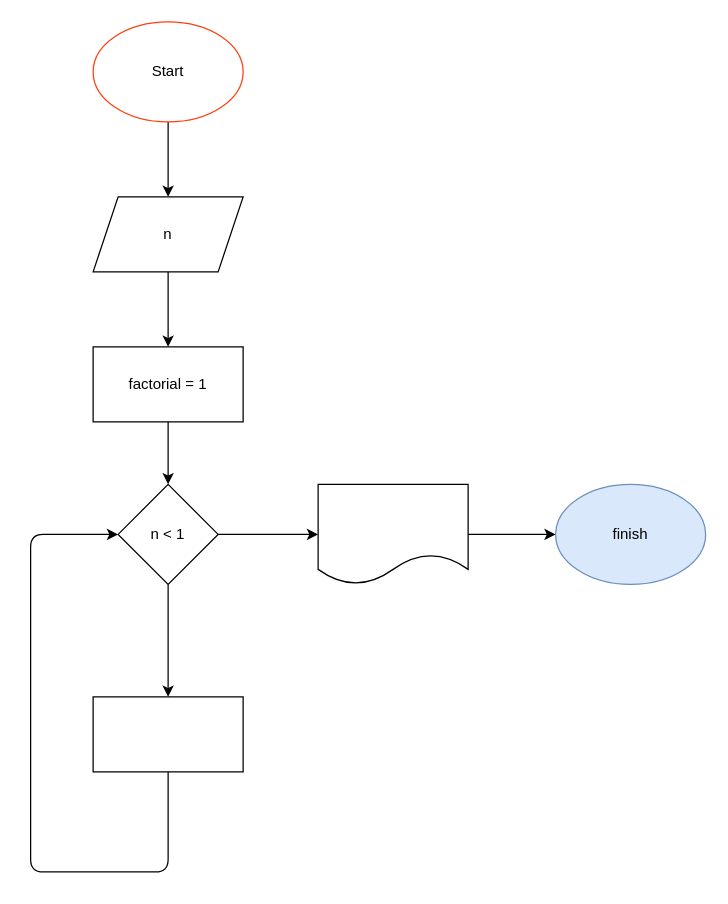
Some shapes in this 728 by 904 pixel diagram are drawn without their labels. The box of each missing label's shape, as (x1, y1, x2, y2) in pixels:
factorial: (317, 483, 468, 584)
factorial *= n - 1: (92, 696, 243, 772)
